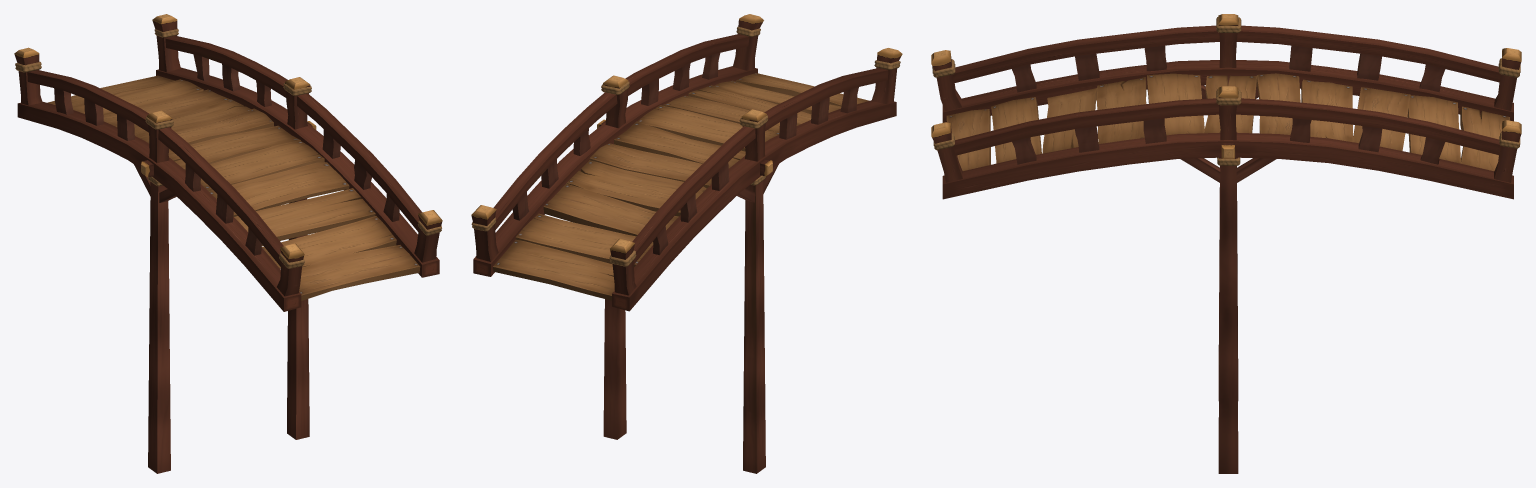
The model's file is Railed_Long_Bridge_LongBeams_Mesh.fbx.
3 renders of one model, left to right at view 1: azimuth 30°, elevation 25°; view 2: azimuth 150°, elevation 25°; view 3: azimuth 270°, elevation 25°, orthographic. The views are drawn at different scales.
Visible parts, largest first — view 1: Bridge; view 2: Bridge; view 3: Bridge.
Part boxes in pixels (box(x1,y1,x2,y2)): Bridge: box(14, 14, 442, 473); Bridge: box(471, 14, 902, 473); Bridge: box(931, 14, 1521, 473).
Bounding box in the file's own units: 260 × 517 × 725.
